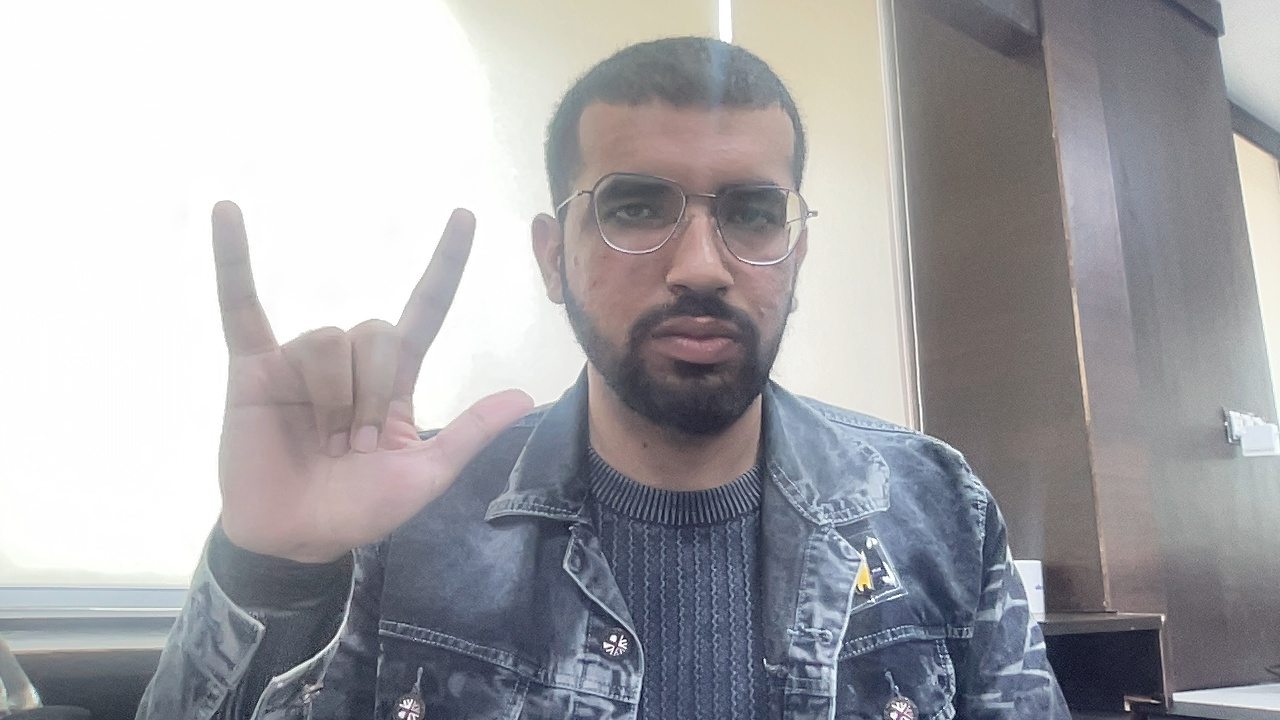I Love You: (139, 154, 540, 564)
